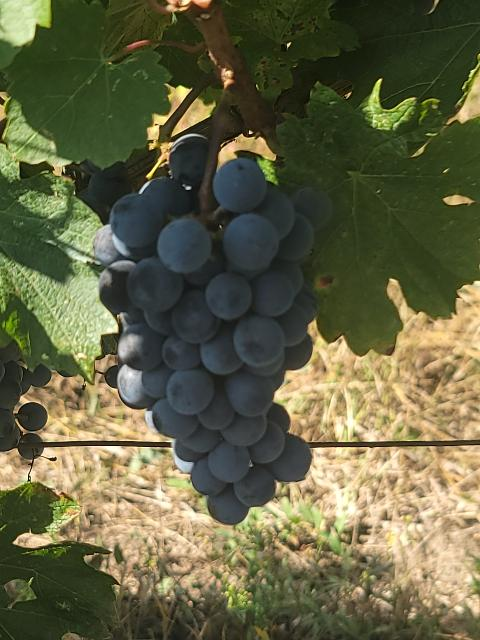grapes: (94, 134, 332, 525)
